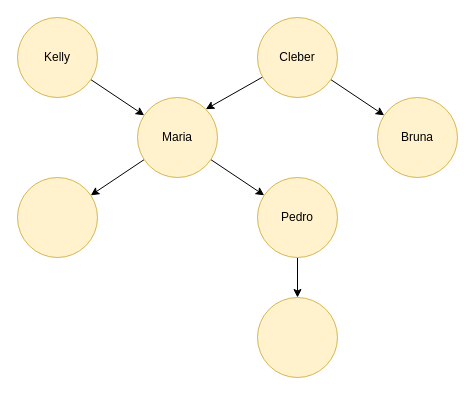
Image size: 475x395. Some labels were removed from this diagram. The centre of each missing label's shape, as x and y in pixels:
"Júlia" goes at pixel 57 217.
"Lucas" goes at pixel 297 337.
